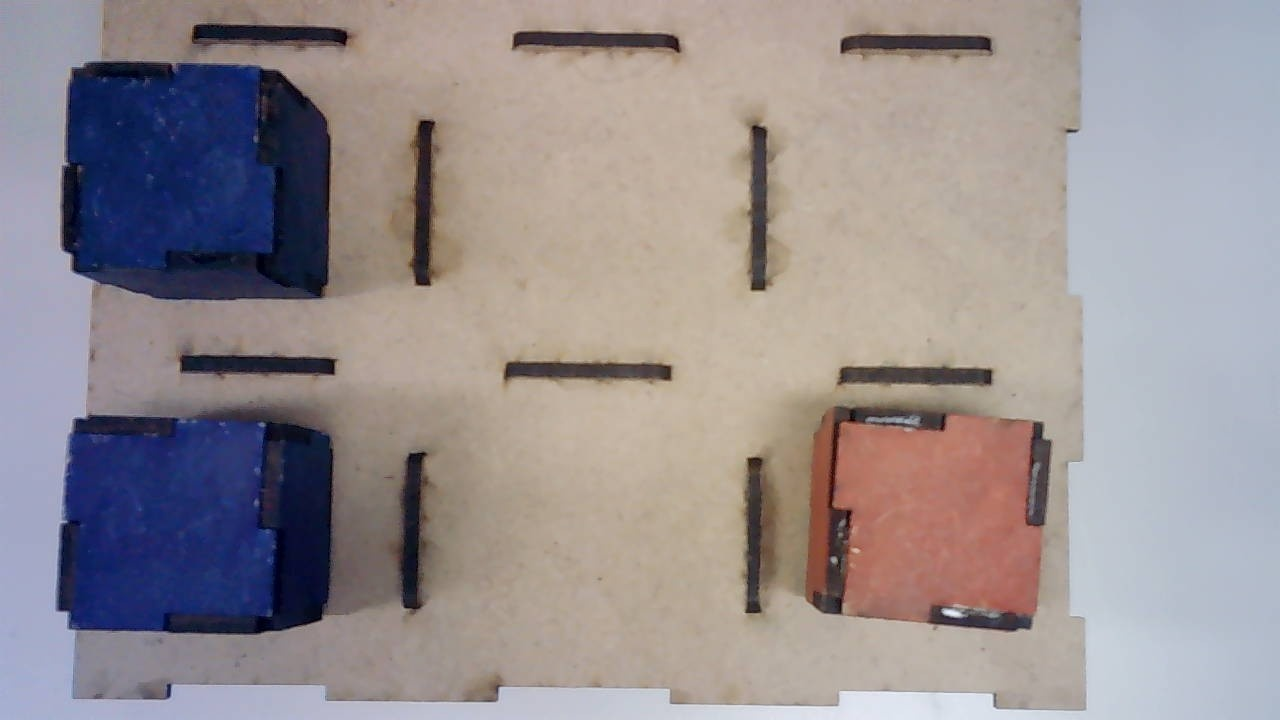blue box: (61, 60, 337, 306), (54, 415, 328, 638)
red box: (803, 407, 1047, 638)
